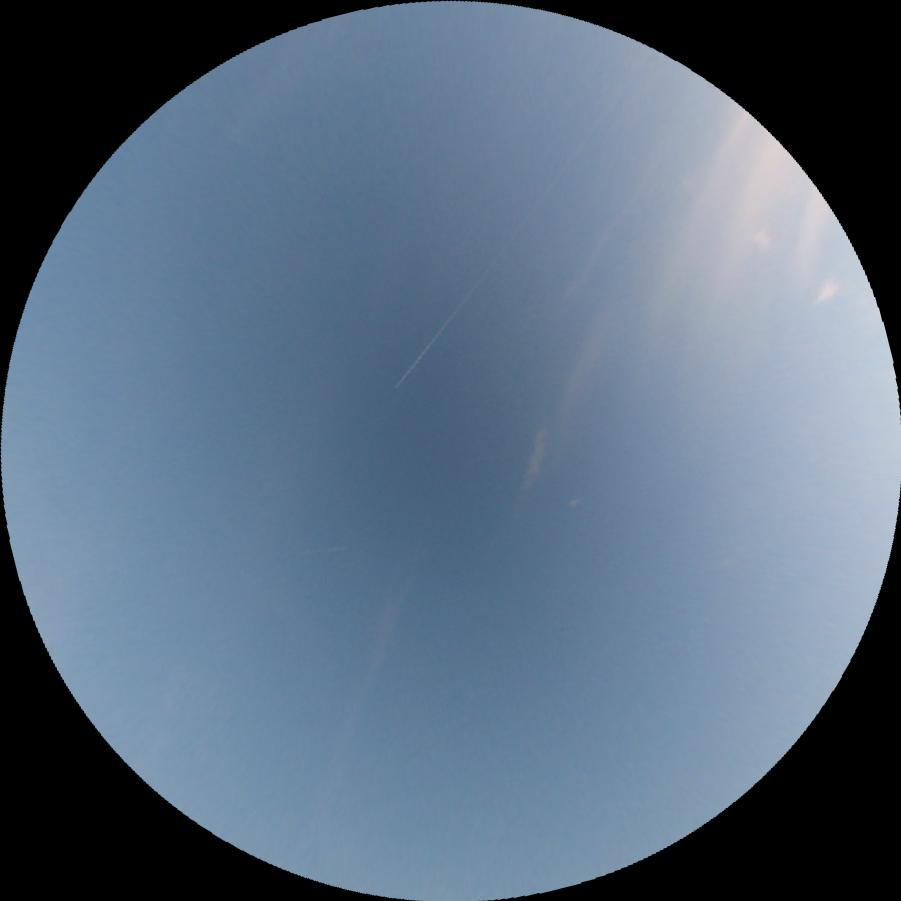contrail young: (393, 48, 660, 389), (304, 545, 347, 554)
